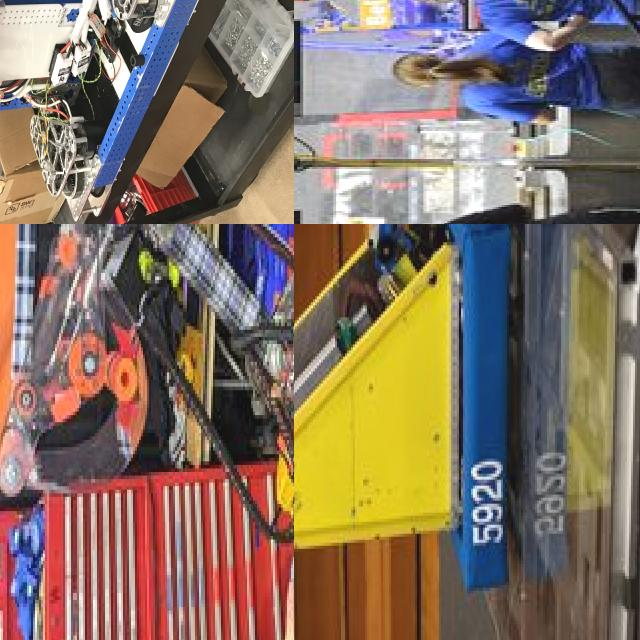FRC-Robots: (3, 224, 294, 640), (294, 224, 527, 640), (0, 0, 242, 224)
